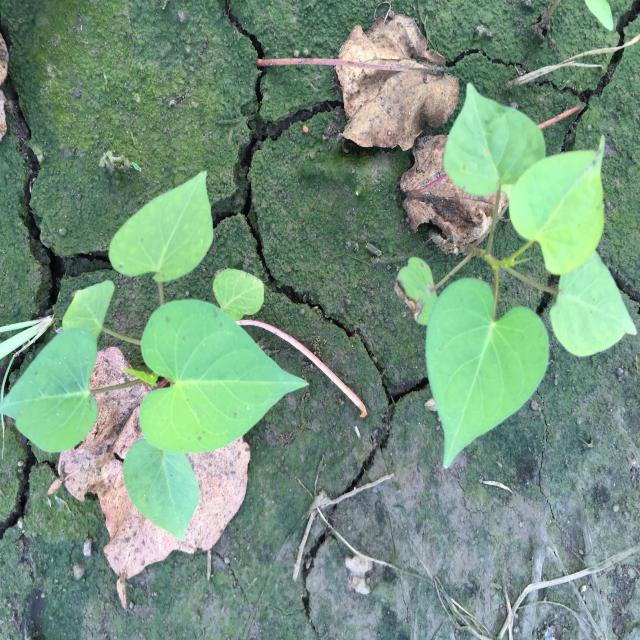MorningGlory: (0, 168, 309, 542), (395, 82, 637, 466)
